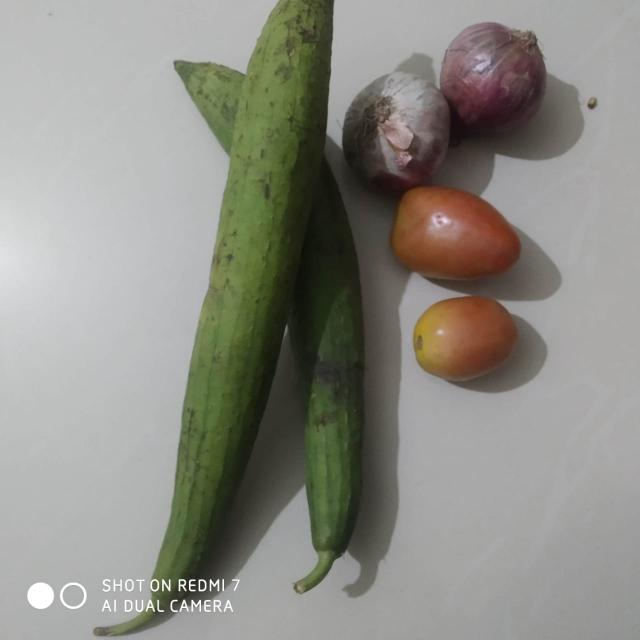Organik: (133, 6, 347, 640), (439, 17, 554, 143), (394, 176, 528, 282), (349, 68, 449, 184), (409, 295, 528, 385)
